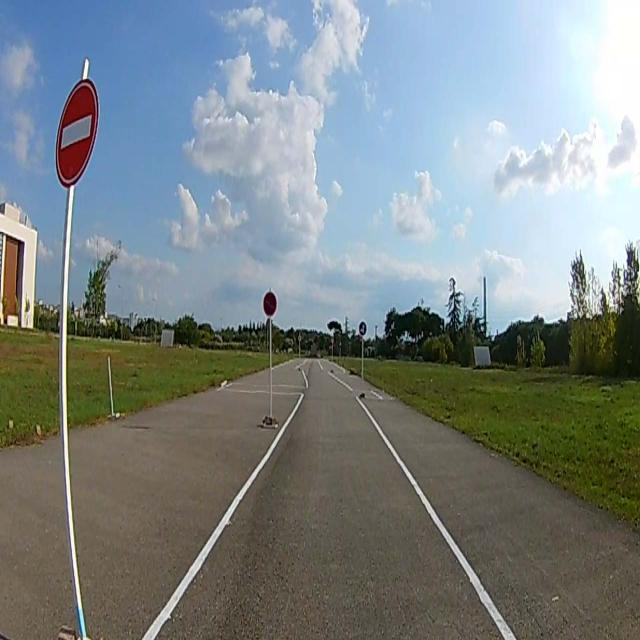girisyok: (55, 82, 96, 184)
